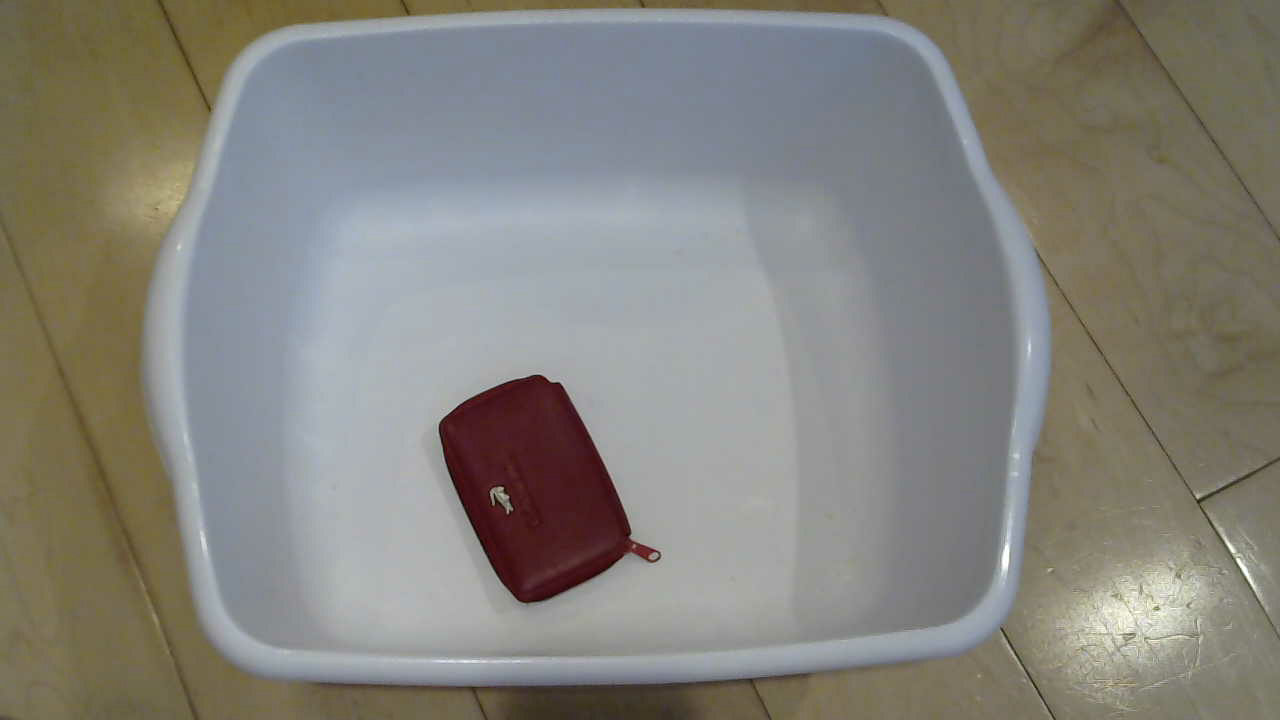wallet: (421, 362, 657, 602)
